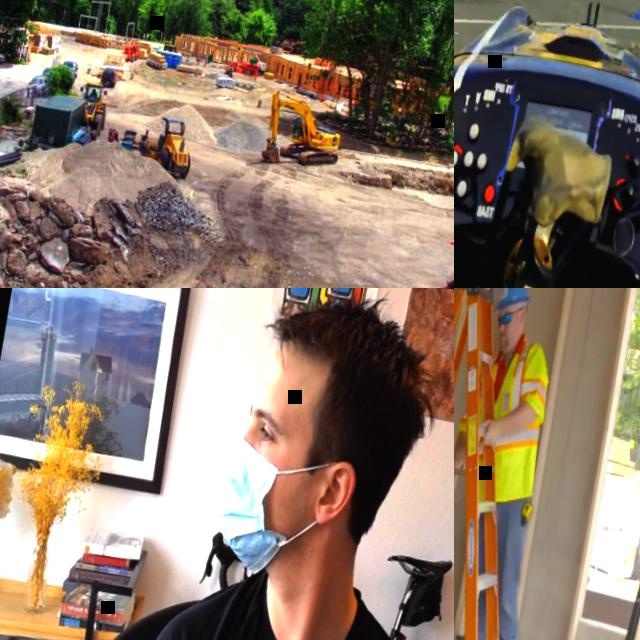Hardhat: (494, 288, 533, 314)
Mask: (205, 435, 342, 589)
NO-Hardhat: (256, 288, 445, 436)
NO-Mask: (497, 322, 521, 354)
Person: (81, 288, 454, 640), (454, 288, 581, 640)
Safety Vest: (454, 327, 556, 464)
machinery: (258, 87, 346, 176), (127, 111, 196, 183), (71, 80, 110, 141)
vehicle: (454, 0, 640, 288), (25, 72, 48, 97), (58, 59, 79, 80), (99, 68, 117, 89), (41, 65, 54, 78)
